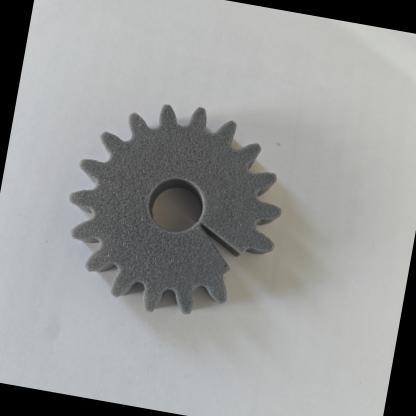defect: (172, 195, 286, 308)
gear: (41, 81, 322, 338)
